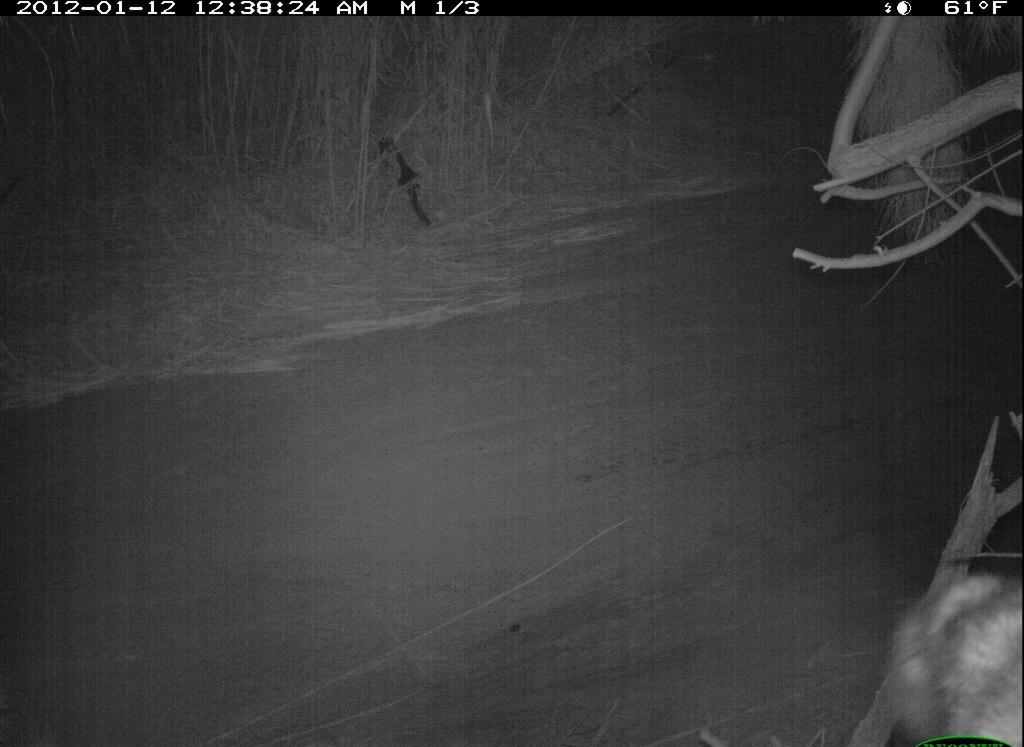raccoon: (879, 562, 1023, 747)
